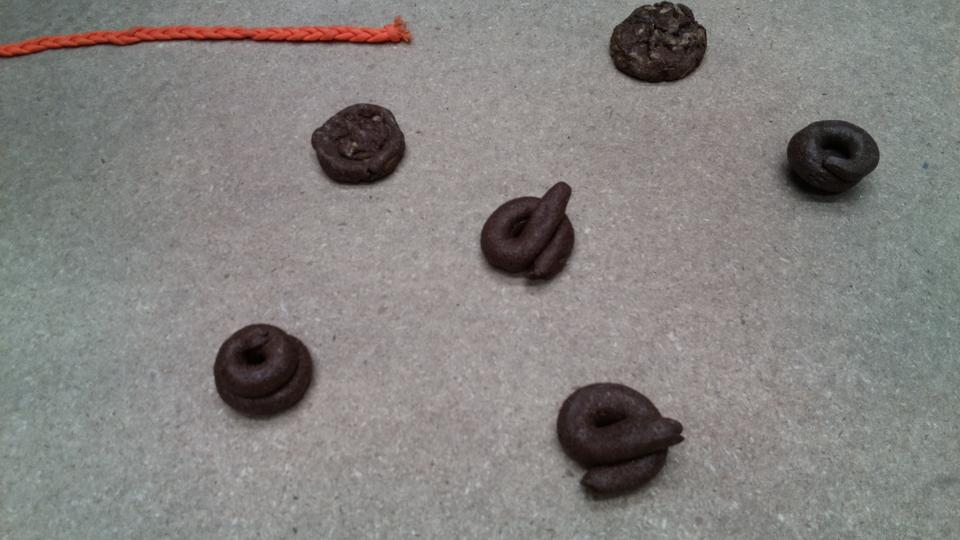poop: (554, 379, 688, 503), (478, 181, 584, 286), (211, 319, 314, 425), (782, 115, 885, 206), (307, 99, 408, 189), (606, 1, 713, 85)
rope: (1, 12, 415, 65)
